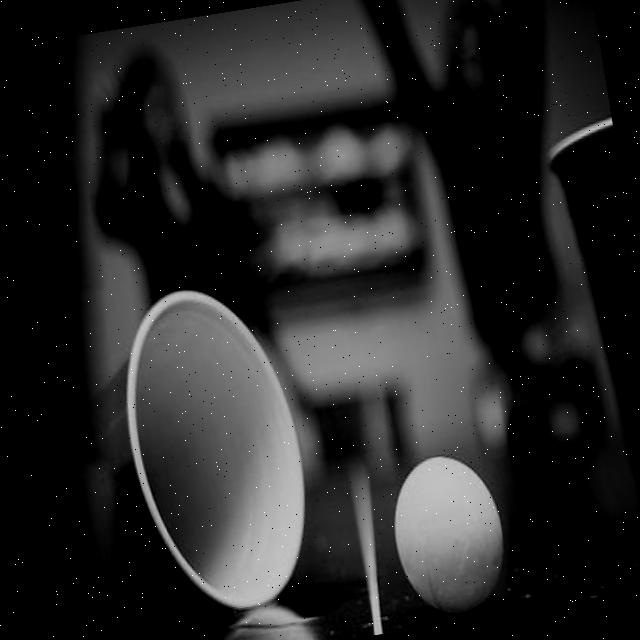ping-pong-ball: (379, 444, 516, 625)
